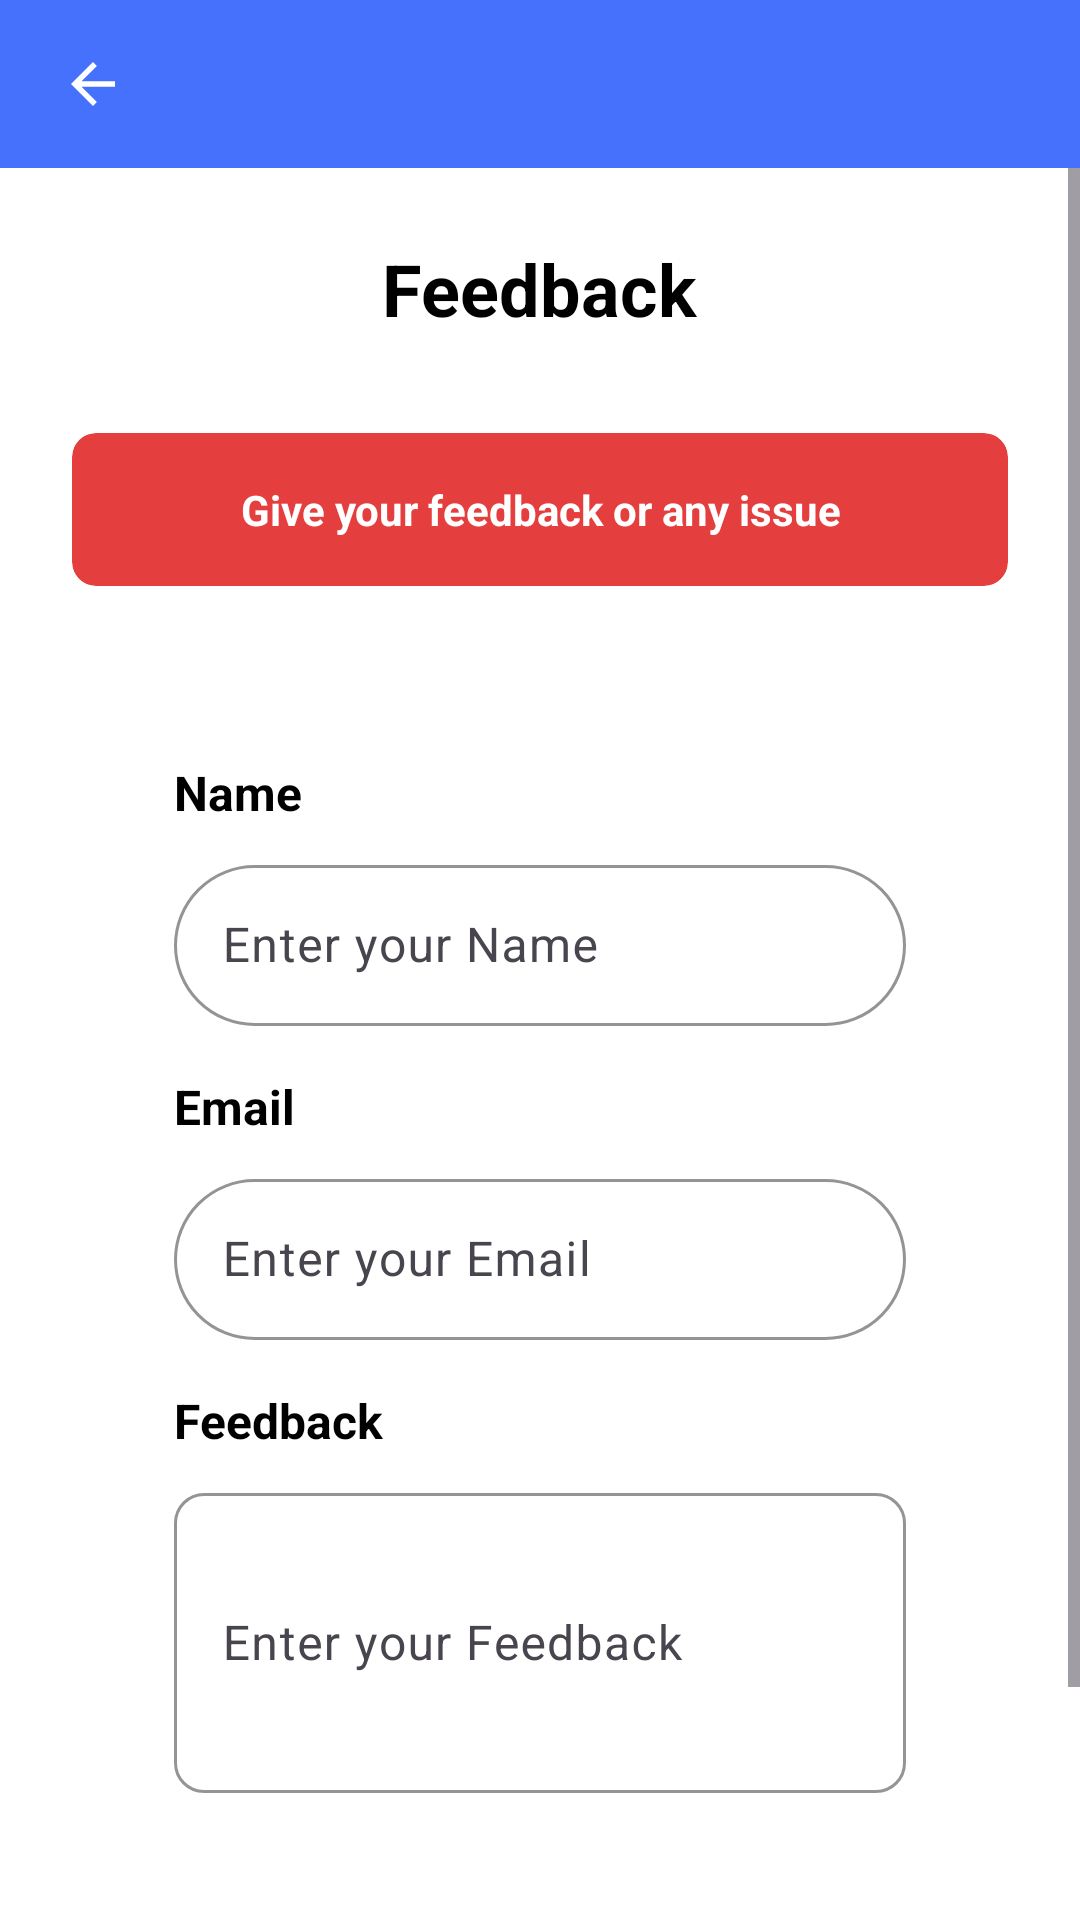

Screen size 1080 x 1920. Icon name, then its center in pixels as (x=x, y=y):
back: (x=93, y=84)
